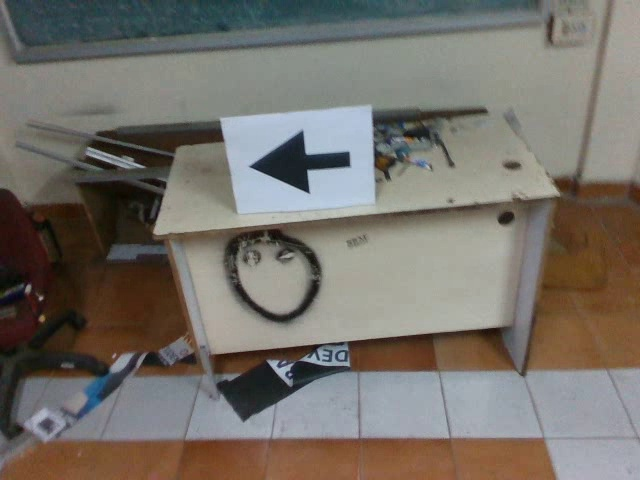Left: (244, 125, 354, 197)
